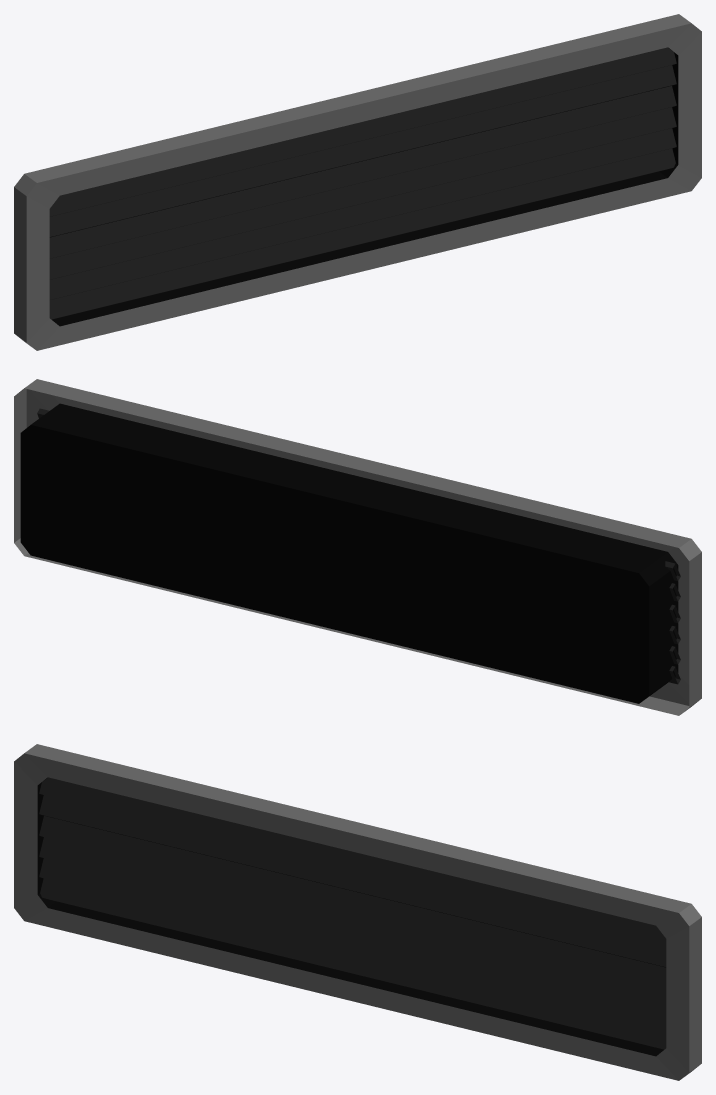
File: vent_A.FBX
3 views of the same model, one above another, from view 1: azimuth 30°, elevation 25°; view 2: azimuth 150°, elevation 25°; view 3: azimuth 330°, elevation 25° (orthographic).
Visible parts, largest first — view 1: vent_A; view 2: vent_A; view 3: vent_A.
Part boxes in pixels (<box>): vent_A: <box>14,14,701,350</box>; vent_A: <box>14,379,701,715</box>; vent_A: <box>14,744,701,1080</box>.
Bounding box in the file's own units: 123 × 29.12 × 9.25.
